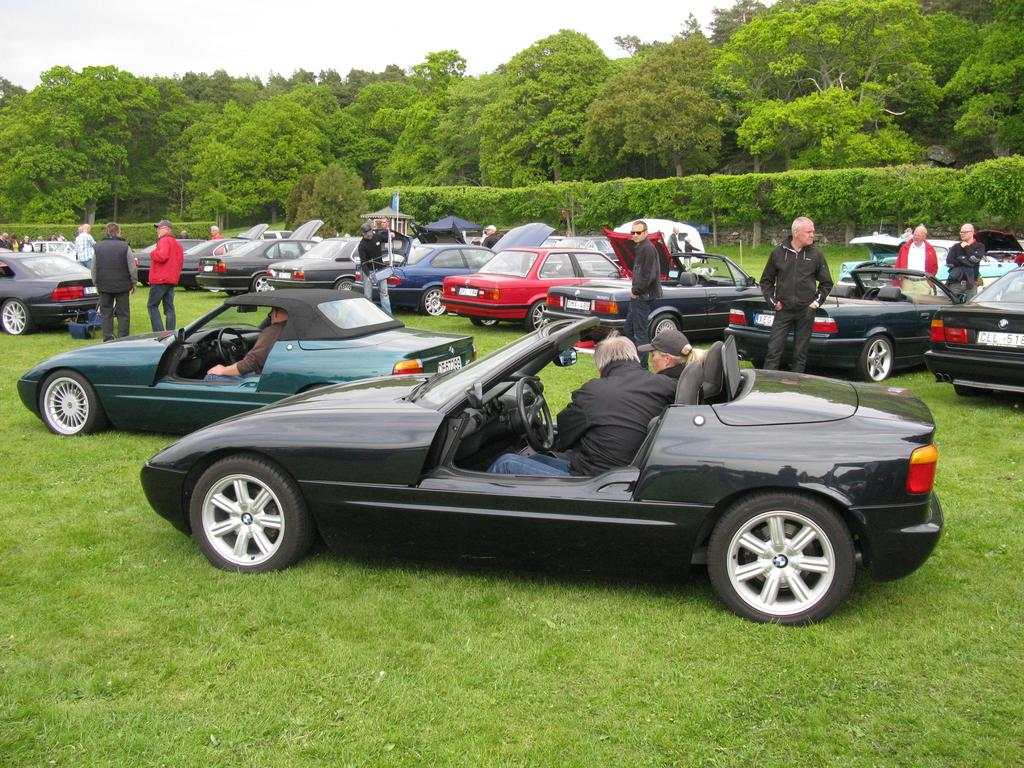mobil: (145, 354, 932, 629), (34, 291, 457, 444), (926, 262, 1024, 409)
